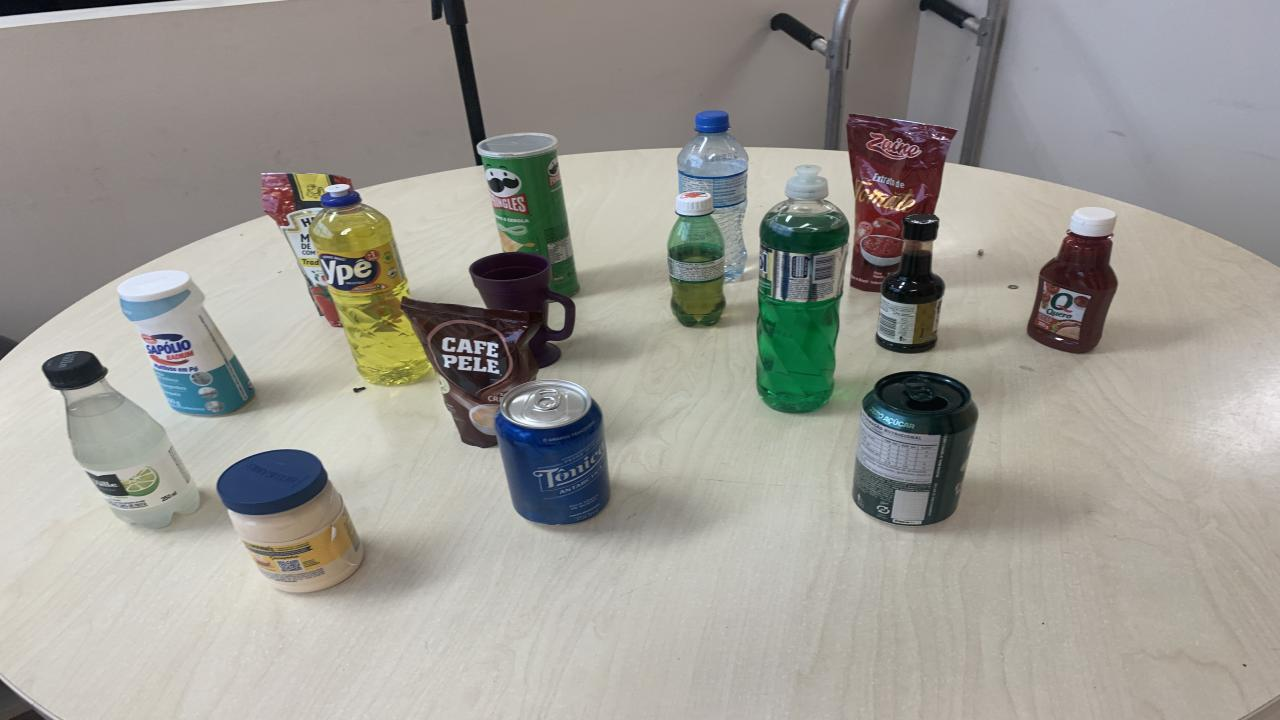Cleaner-Cleanup_Items: (118, 270, 255, 414)
Coffee-Pantry_Items: (402, 298, 542, 448)
Detergent-Cleanup_Items: (310, 184, 430, 386), (758, 165, 850, 412)
English_Sauce-Pantry_Items: (875, 214, 945, 352)
Guarana-Drinks: (668, 191, 725, 326)
Guarana_Can-Drinks: (852, 371, 978, 525)
Ketchup-Pantry_Items: (1028, 206, 1118, 352)
Mayonnaise-Pantry_Items: (218, 450, 362, 592)
Pringles-Snacks: (478, 133, 580, 296)
Soda-Drinks: (42, 351, 200, 529)
Tomato_Sauce-Pantry_Items: (845, 114, 955, 291), (260, 172, 348, 326)
Tonic-Drinks: (495, 379, 610, 525)
Water_Bottle-Drinks: (678, 111, 748, 281)
